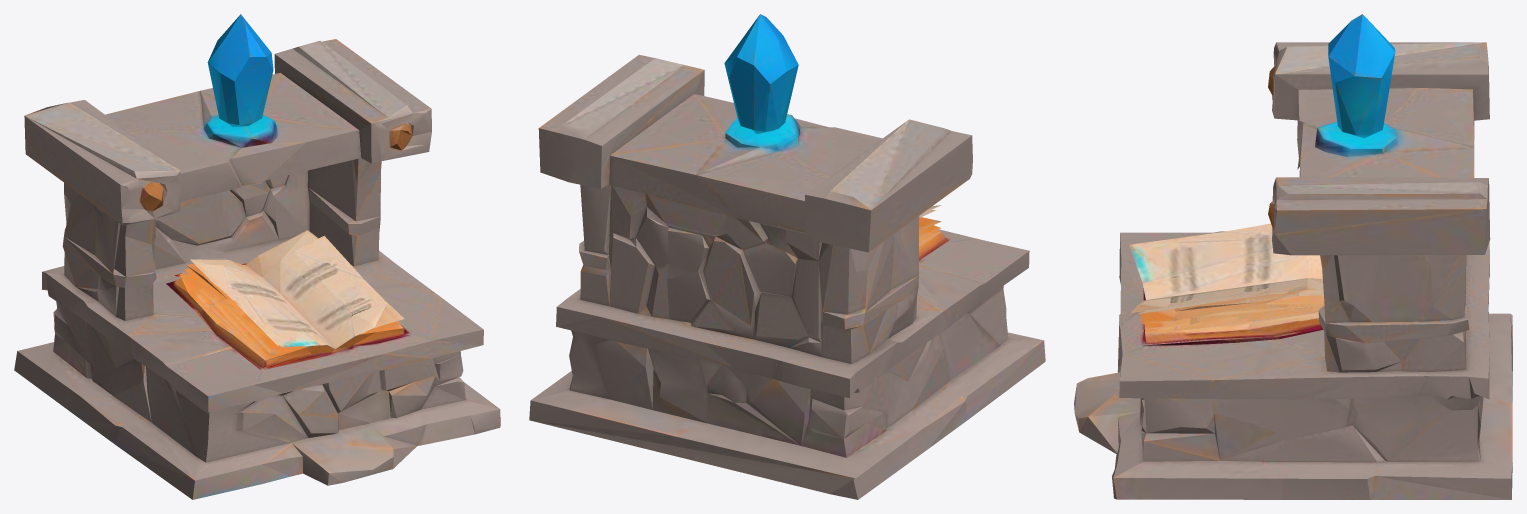
Rendered from lernstation.glb.
The picture shows the model from 3 angles, left to right: view 1: azimuth 30°, elevation 25°; view 2: azimuth 150°, elevation 25°; view 3: azimuth 270°, elevation 25°; orthographic projection. The views are drawn at different scales.
Size of the model in its own units: 1.69 by 1.89 by 1.86.
Materials: 1 (1 with a texture image).
